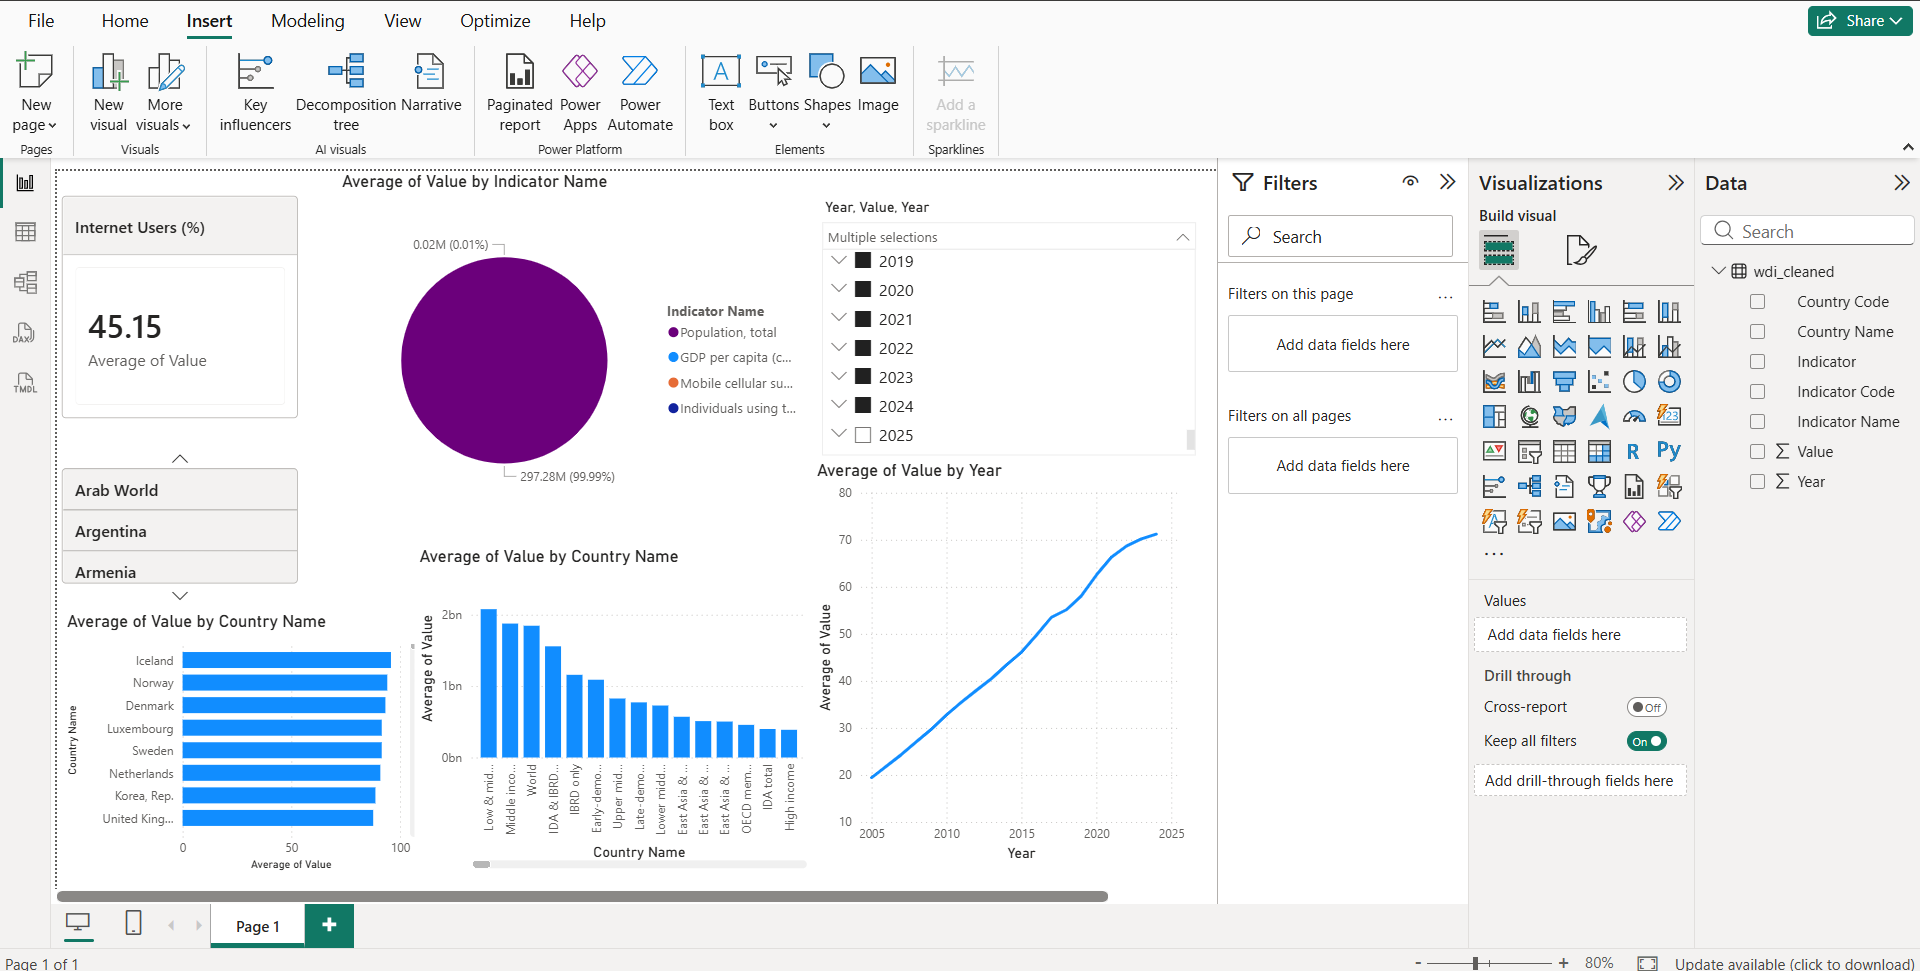

Layout of this report page (visuals, bound fields, positions):
{"tool":"powerbi","page":{"name":"Page 1","canvas":[1280,720],"ordinal":0},"visuals":[{"type":"cardVisual","fields":{"Data":["Avg(wdi_cleaned.Value)"],"Rows":["wdi_cleaned.Indicator"]},"box":[0,0,246.2,272.5],"z":0},{"type":"slicer","fields":{"Values":["wdi_cleaned.Year","wdi_cleaned.Value","wdi_cleaned.Year"]},"box":[755,22.5,393.8,250],"z":1000},{"type":"clusteredBarChart","fields":{"Y":["Avg(wdi_cleaned.Value)"],"Category":["wdi_cleaned.Country Name"]},"box":[5,440,361.2,265],"z":2000},{"type":"lineChart","fields":{"Category":["wdi_cleaned.Year"],"Y":["Avg(wdi_cleaned.Value)"]},"box":[755,288.8,377.5,406.2],"z":2001},{"type":"lineClusteredColumnComboChart","fields":{"Category":["wdi_cleaned.Country Name"],"Y":["Avg(wdi_cleaned.Value)"]},"box":[357.5,375,397.5,327.5],"z":2002},{"type":"pieChart","fields":{"Y":["Avg(wdi_cleaned.Value)"],"Category":["wdi_cleaned.Indicator Name"]},"box":[280,0,475,360],"z":2003},{"type":"cardVisual","fields":{"Rows":["wdi_cleaned.Country Name"]},"box":[0,272.5,246.2,167.5],"z":2004}]}

Visuals, with their boxes on the page's 1280x720 design canvas (x1, y1, x2, y2). These are canvas units, not pixel positions in the 1920x971 screenshot, which may show the page scaled, cropped or inside an application window:
cardVisual - Avg(wdi_cleaned.Value) x wdi_cleaned.Indicator: detection(0, 0, 246, 272)
slicer - wdi_cleaned.Year x wdi_cleaned.Value: detection(755, 22, 1149, 272)
clusteredBarChart - Avg(wdi_cleaned.Value) x wdi_cleaned.Country Name: detection(5, 440, 366, 705)
lineChart - wdi_cleaned.Year x Avg(wdi_cleaned.Value): detection(755, 289, 1132, 695)
lineClusteredColumnComboChart - wdi_cleaned.Country Name x Avg(wdi_cleaned.Value): detection(358, 375, 755, 702)
pieChart - Avg(wdi_cleaned.Value) x wdi_cleaned.Indicator Name: detection(280, 0, 755, 360)
cardVisual - wdi_cleaned.Country Name: detection(0, 272, 246, 440)
